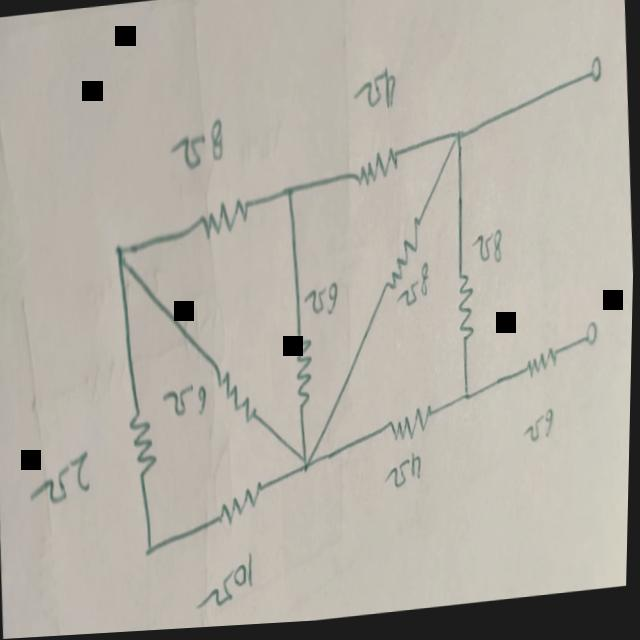junction: (292, 452, 318, 486), (279, 182, 302, 213), (144, 536, 159, 565), (113, 240, 127, 268), (453, 131, 466, 159), (460, 387, 476, 409)
resistor: (212, 362, 261, 431), (286, 325, 319, 426), (200, 200, 253, 247), (381, 227, 419, 291), (129, 410, 161, 483), (221, 485, 267, 531), (355, 151, 400, 195), (388, 412, 438, 451), (456, 275, 477, 352), (526, 354, 561, 384)
terminal: (586, 61, 604, 95), (584, 325, 601, 358)
text: (29, 451, 94, 514), (194, 555, 259, 617), (168, 121, 226, 177), (352, 69, 398, 122), (161, 383, 209, 433), (396, 266, 433, 317), (385, 456, 425, 497), (303, 285, 340, 324), (471, 234, 504, 276), (524, 411, 557, 452)
